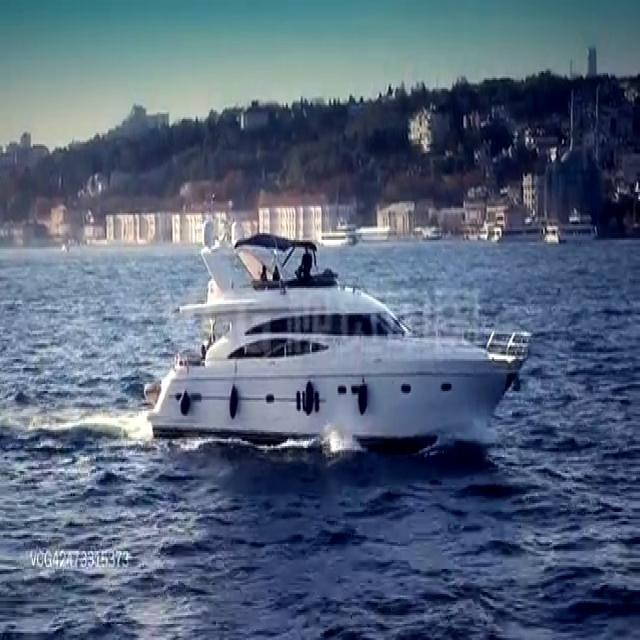houseboat: (150, 223, 530, 451)
